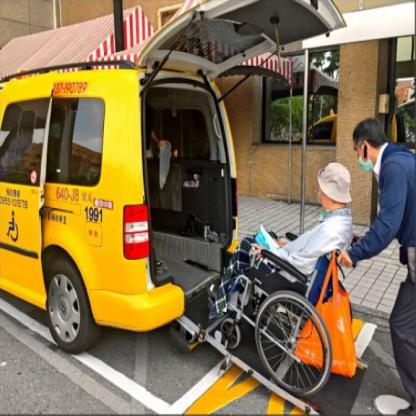wheelchair: (206, 161, 357, 403)
